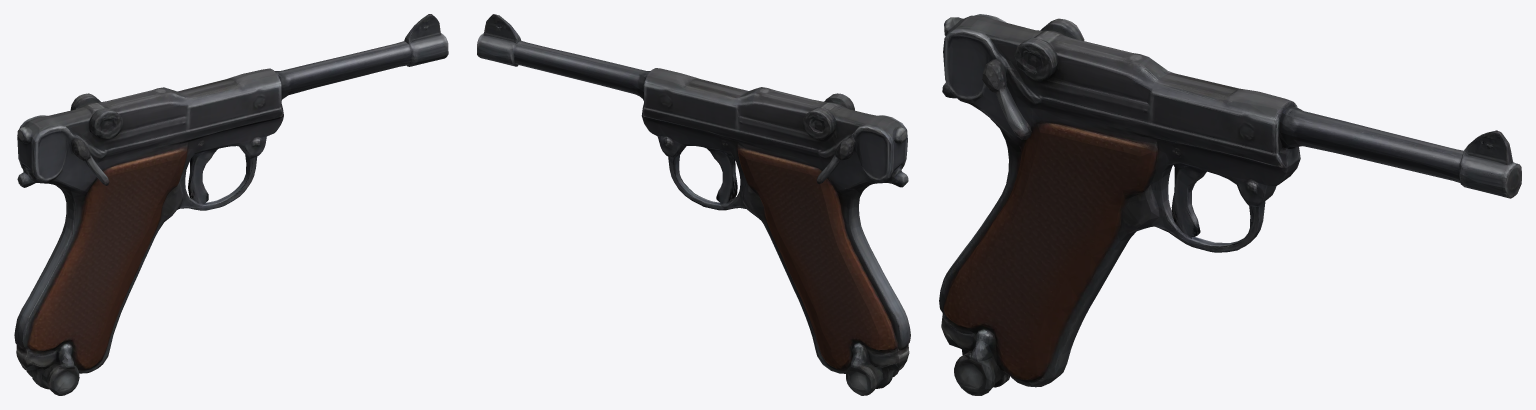
File: luger.glb
3 views of the same model, side by side, from view 1: azimuth 30°, elevation 25°; view 2: azimuth 150°, elevation 25°; view 3: azimuth 330°, elevation 25° (orthographic). The views are drawn at different scales.
Parts seen in each view (by area): view 1: geometry_0; view 2: geometry_0; view 3: geometry_0.
Boxes of the visible parts, x1,y1,x2,y2 form: geometry_0: (14,14,448,395); geometry_0: (477,14,910,395); geometry_0: (939,14,1521,395).
Size of the model in its own units: 1 by 0.631 by 0.1391.
Materials: 1 (1 with a texture image).
